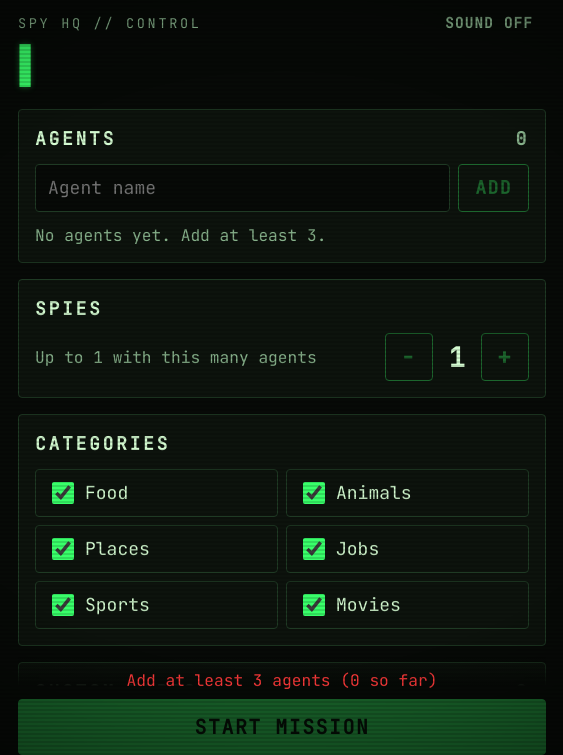
duplicate names are refused
Type "Ana" into the field labelled "Agent name" at (243, 188), box 35,164 -> 450,212
Then press Enter
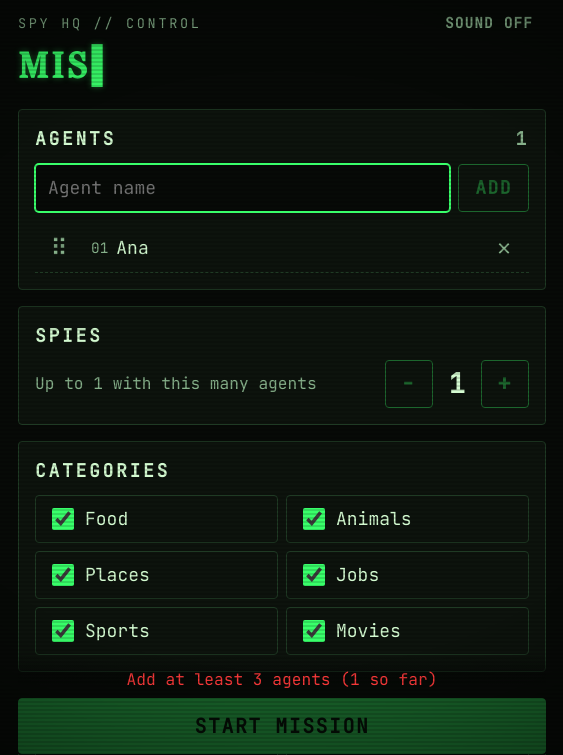
Type "ana" into the field labelled "Agent name" at (243, 188), box 35,164 -> 450,212
Then press Enter
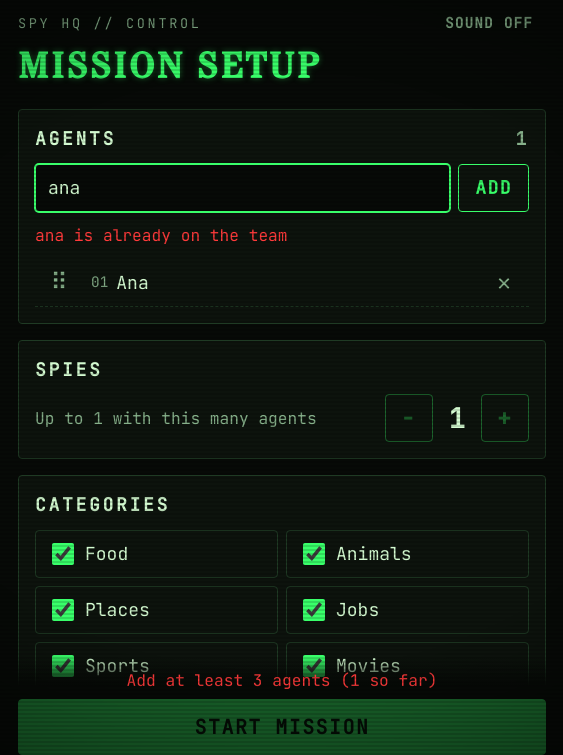
Expected: the number of list items is 1, 35,258 -> 529,307
Expected: the message "ana is already on the team" is shown, 35,224 -> 288,246
